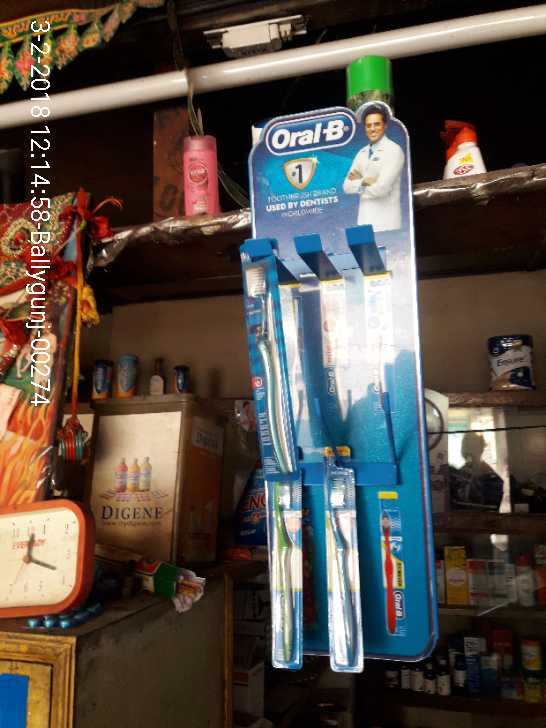oralb: (255, 470, 304, 667), (324, 475, 366, 662)
